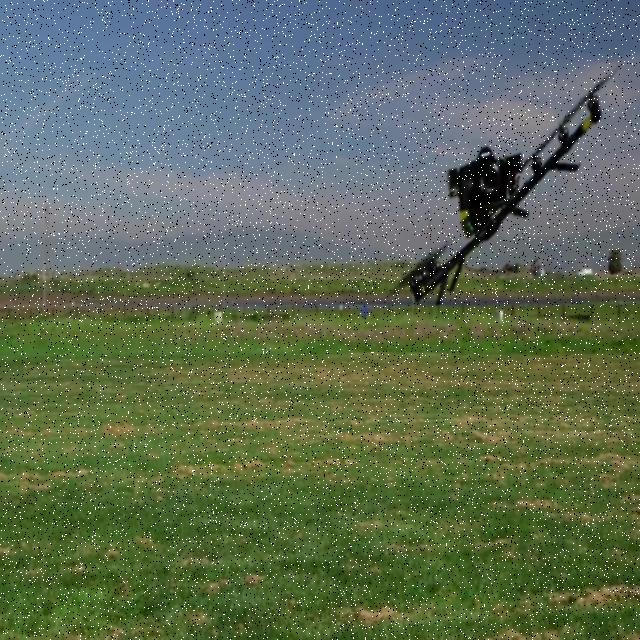UAV: (385, 64, 624, 305)
